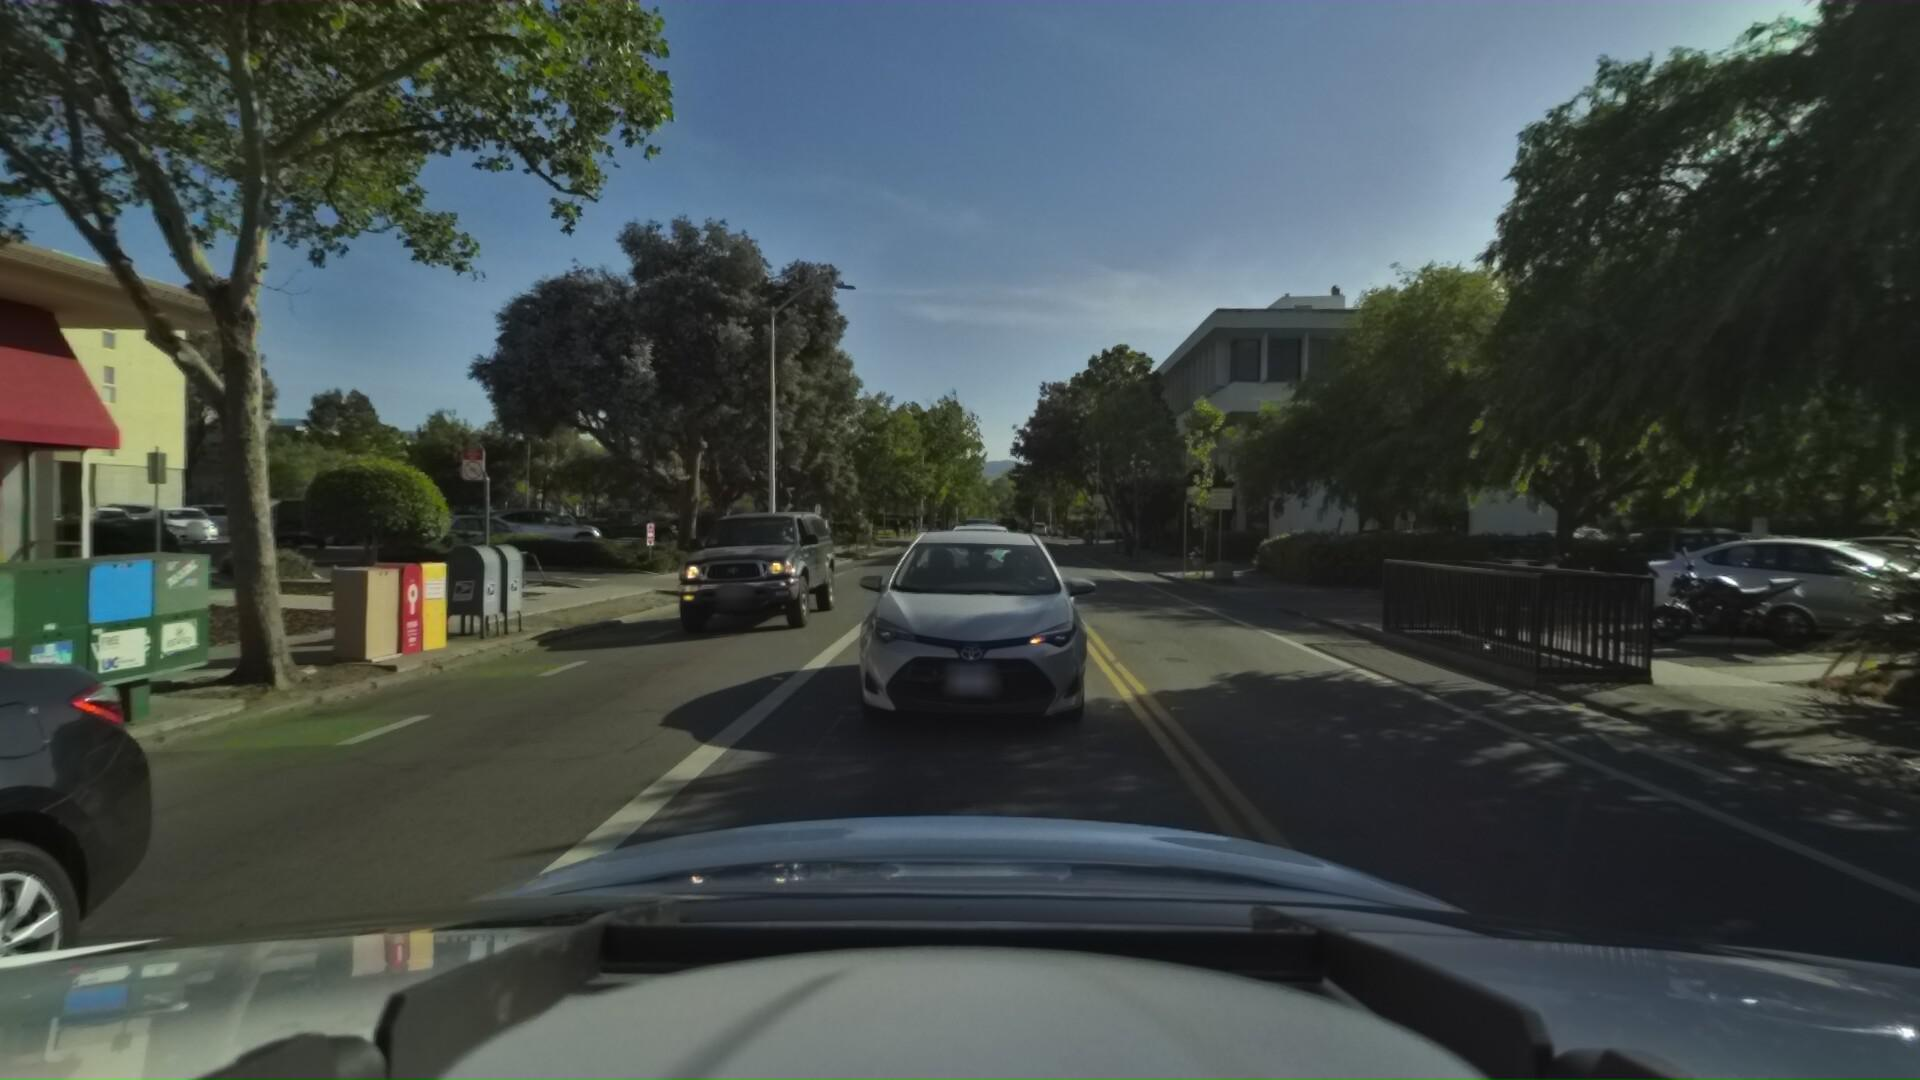car: (835, 521, 1129, 781), (1605, 531, 1920, 674), (644, 488, 839, 637), (1596, 521, 1753, 609), (401, 512, 567, 564), (1462, 533, 1557, 608), (471, 505, 615, 554), (943, 518, 1025, 588), (556, 506, 683, 547), (947, 516, 992, 551)
motorcycle: (1615, 542, 1817, 674)
